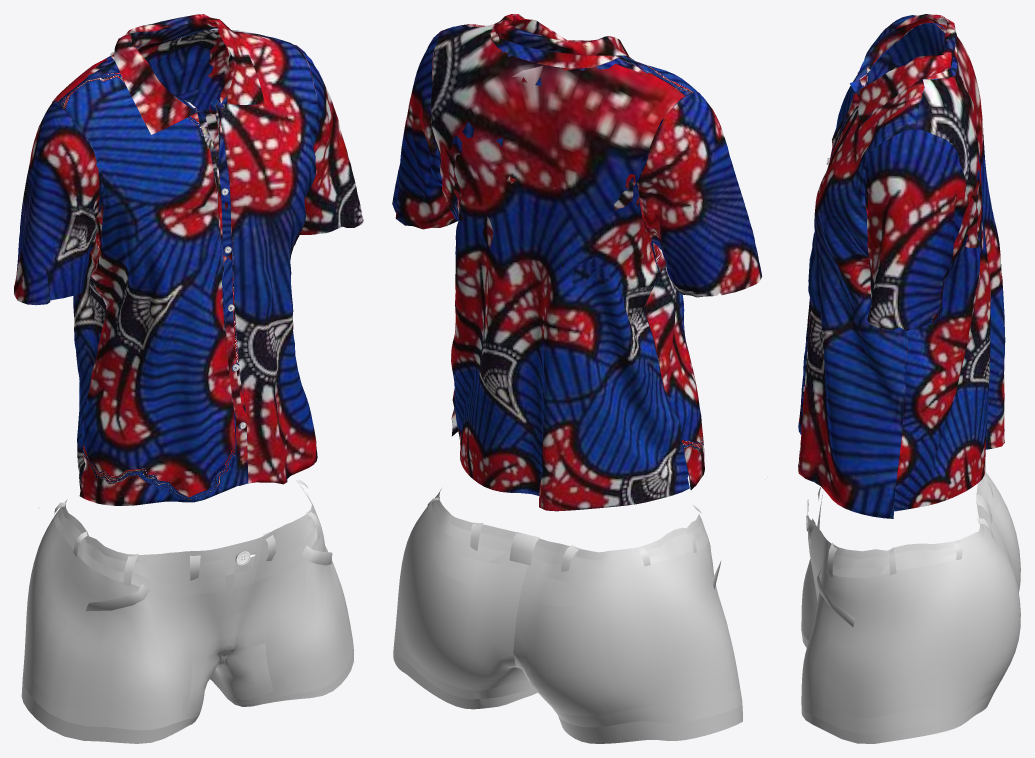
File: short_shirt_and_booty_shorts.glb
3 renders of one model, left to right at view 1: azimuth 30°, elevation 25°; view 2: azimuth 150°, elevation 25°; view 3: azimuth 270°, elevation 25°, orthographic. The views are drawn at different scales.
Visible parts, largest first — view 1: all, all_two; view 2: all, all_two; view 3: all, all_two.
Boxes of the visible parts, x1,y1,x2,y2 form: all: (14,14,363,505); all_two: (21,480,353,743); all: (392,14,761,511); all_two: (393,488,742,743); all: (798,14,1005,518); all_two: (801,471,1020,743).
Size of the model in its own units: 0.3619 by 0.6623 by 0.2056.
1 material, 1 textured.
